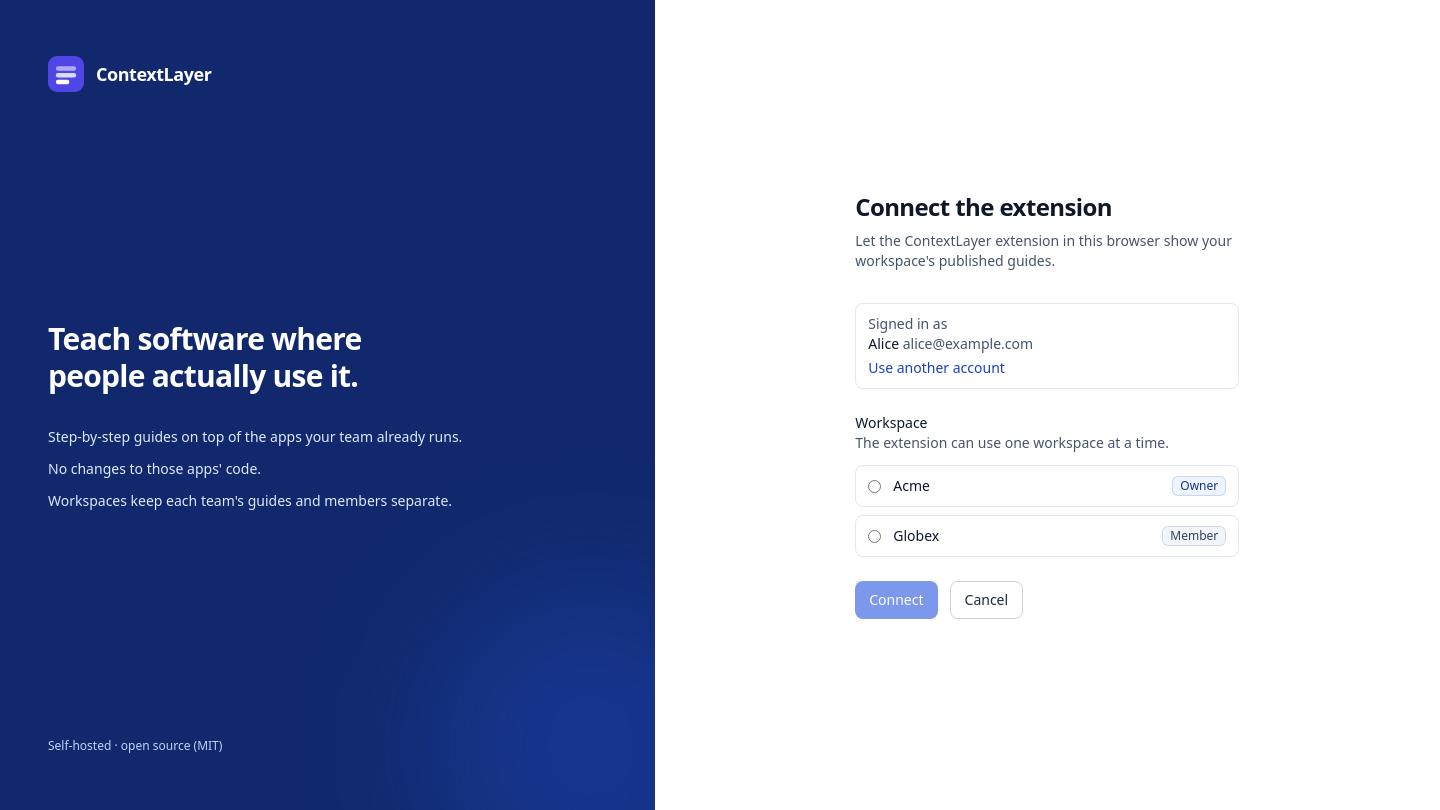
ExtensionConnectPage › issues a code for the chosen workspace and hands only code and state to the extension
Click the radio button labelled "Globex Member" at (875, 536), box [868,530,881,542]
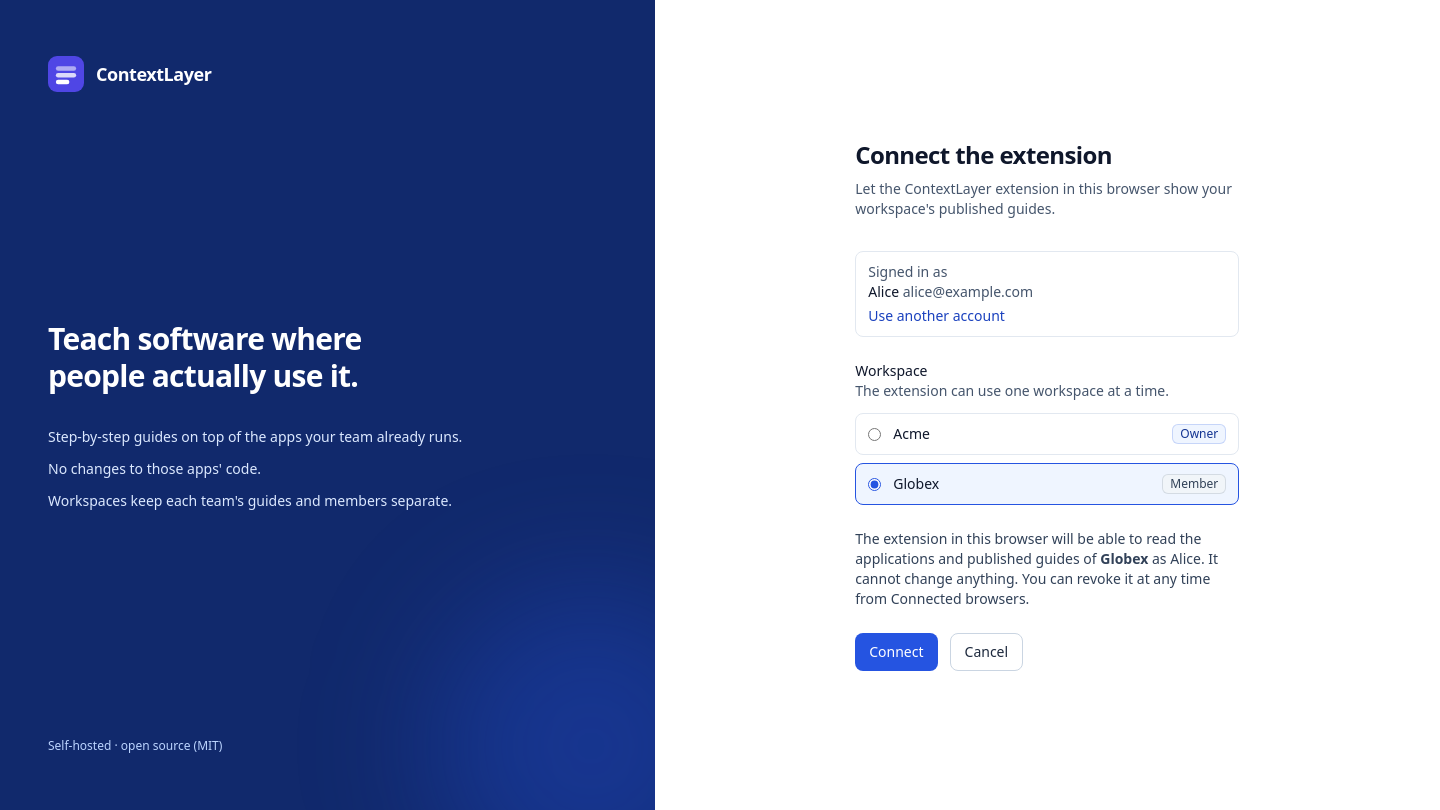
Submit the form, box [855,251,1239,671]
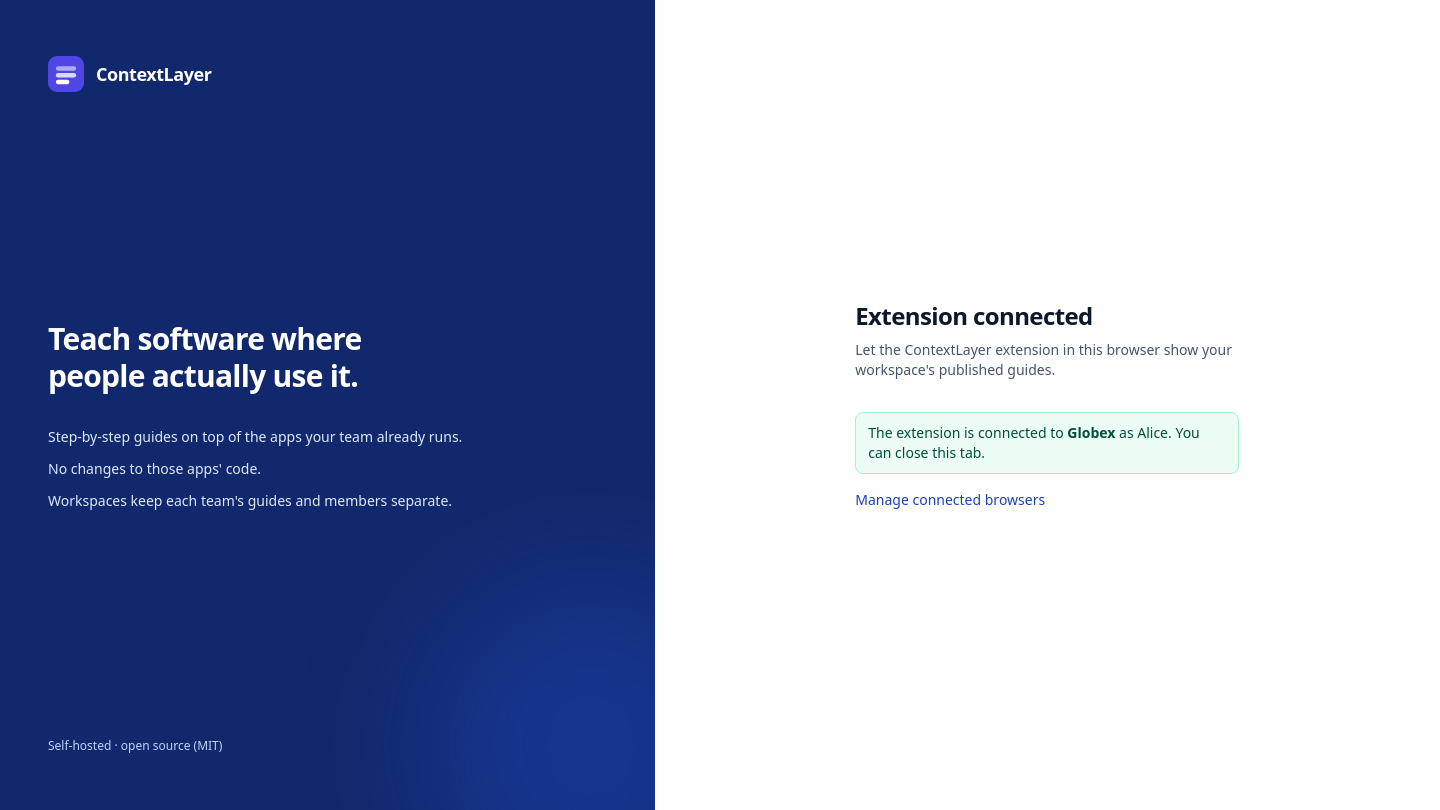
expect the element with test id "connect-success" shows "Globex": met, box [1067,423,1115,442]
